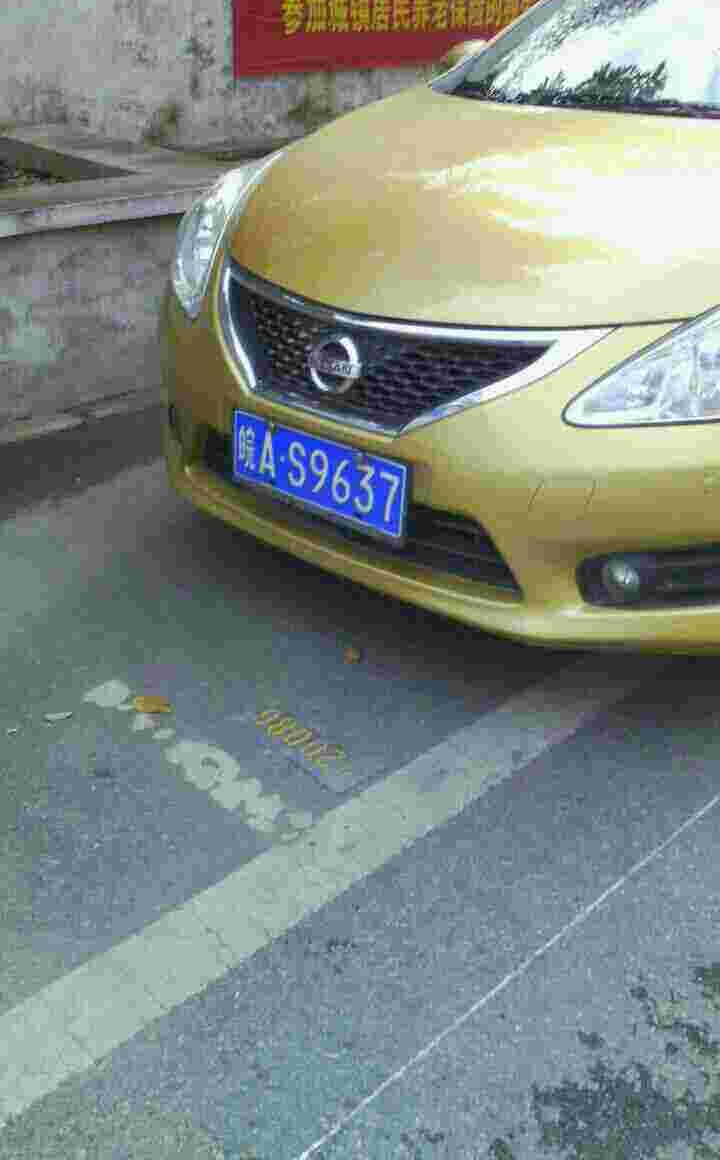license_plate: (230, 413, 416, 521)
